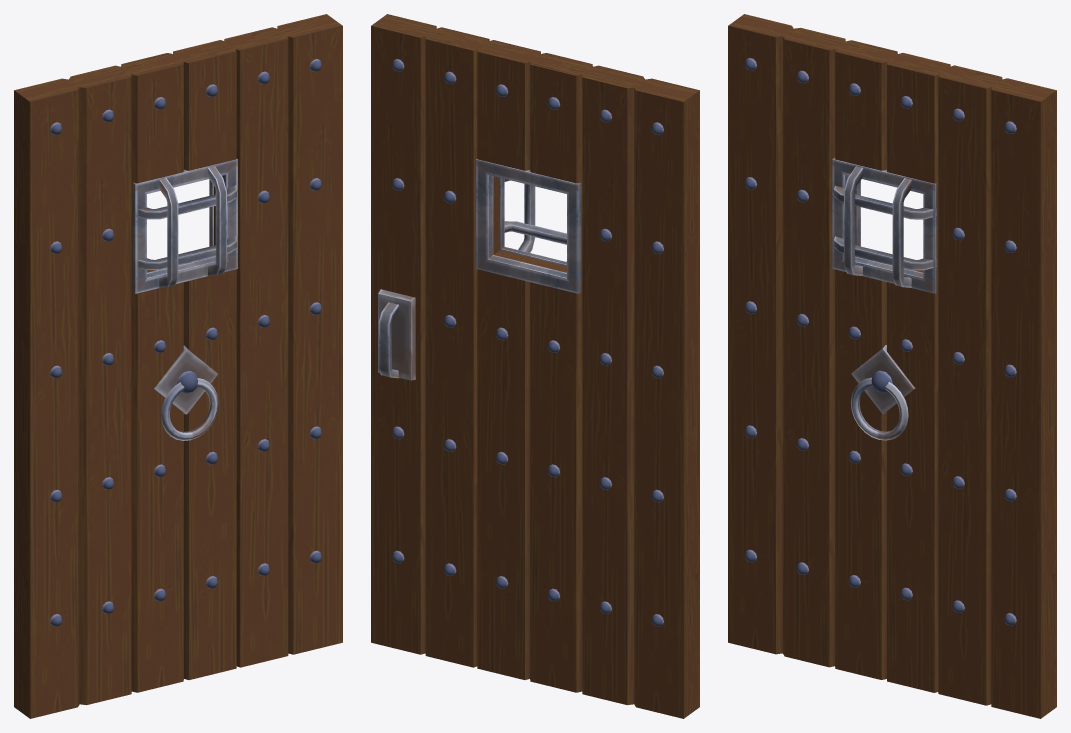
File: Door_2_Flat.gltf
The picture shows the model from 3 angles, left to right: view 1: azimuth 30°, elevation 25°; view 2: azimuth 150°, elevation 25°; view 3: azimuth 330°, elevation 25°; orthographic projection.
Parts seen in each view (by area): view 1: Door_2_Flat; view 2: Door_2_Flat; view 3: Door_2_Flat.
Part boxes in pixels (x1,y1,x2,y2): Door_2_Flat: [14, 14, 342, 718]; Door_2_Flat: [371, 14, 699, 718]; Door_2_Flat: [728, 14, 1056, 718].
Bounding box in the file's own units: 1.11 × 2.1 × 0.2609.
2 materials, 2 textured.
